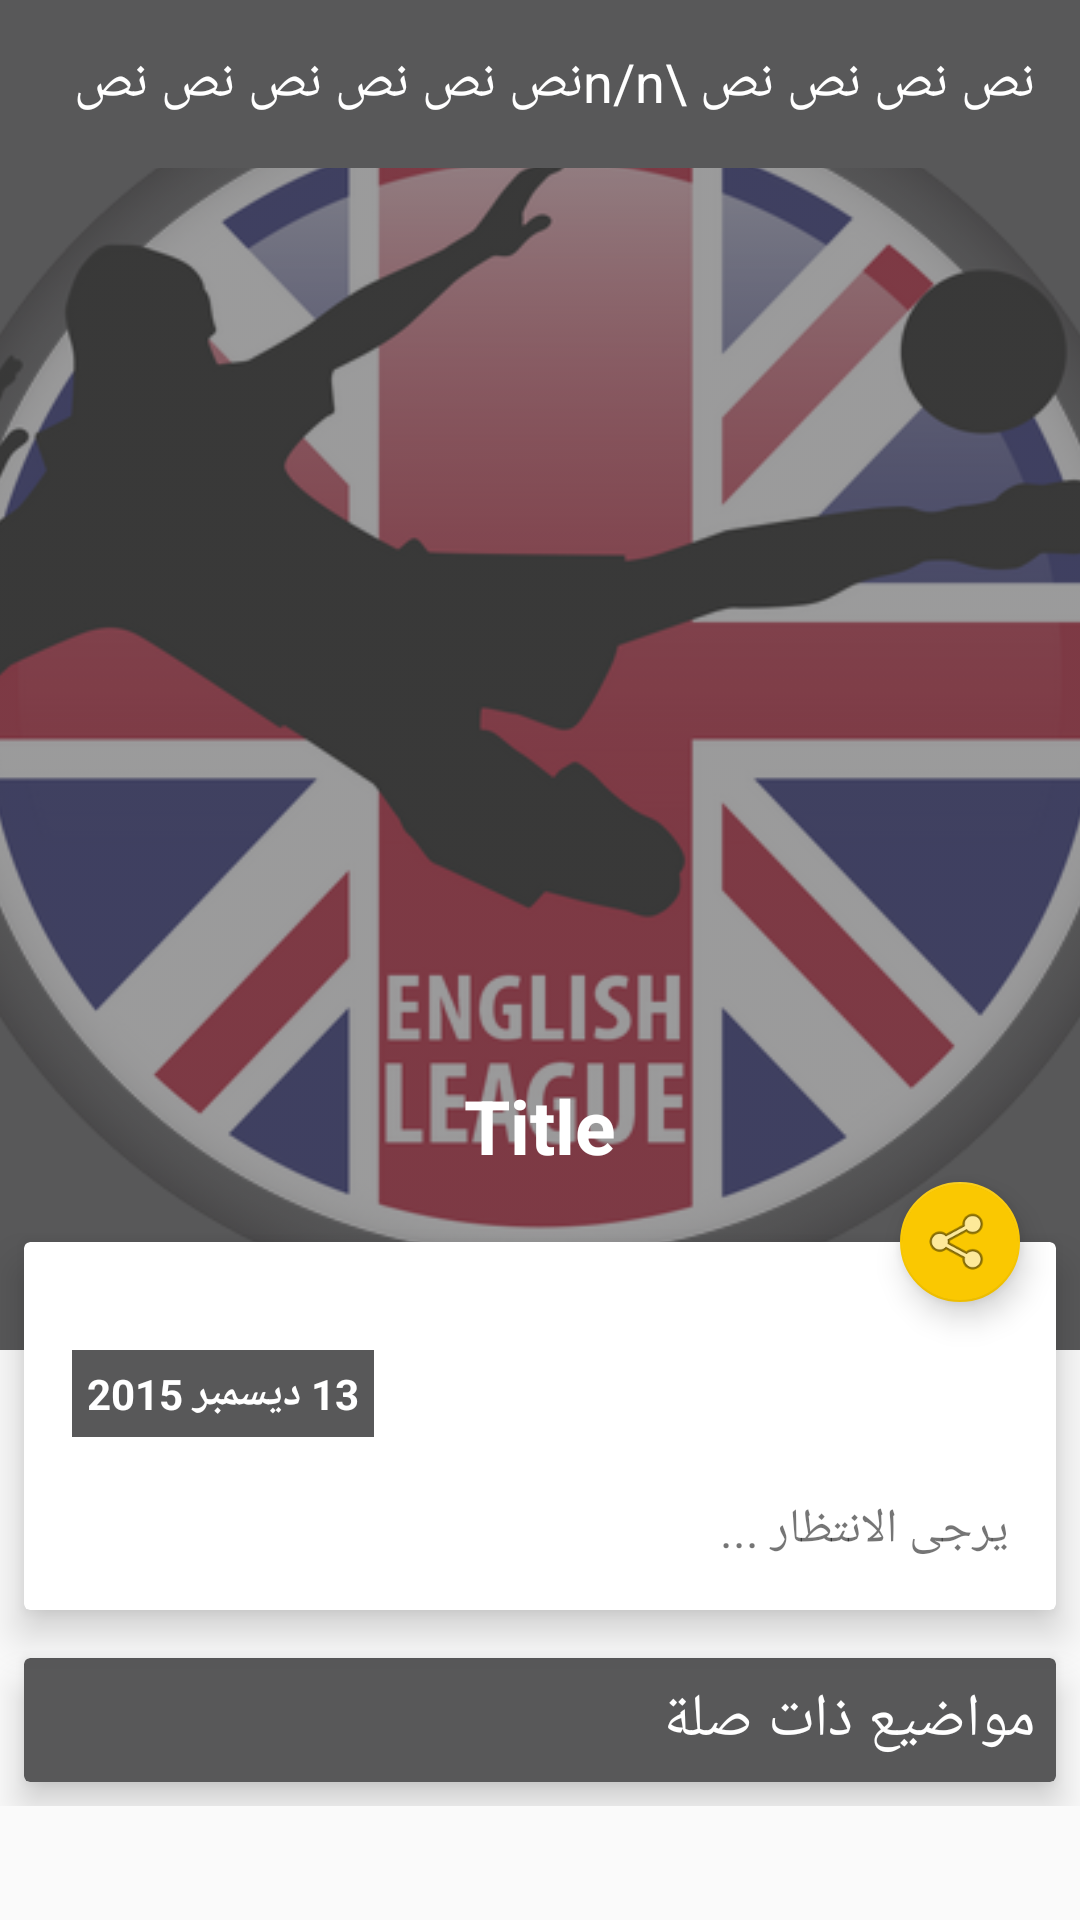

Point at icon controls on the screen. Image size 1080 x 1920, points as [x,y].
share: [960,1242]
